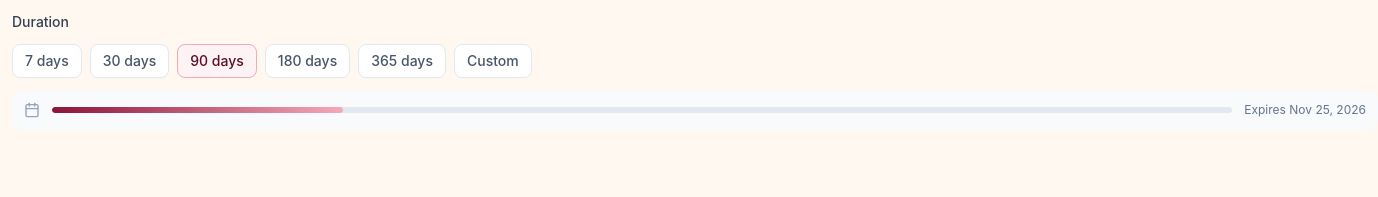
ConsentExpiryPicker › shows custom input when Custom button clicked
Click the button "Custom" at (493, 61), box 454,44 -> 532,78
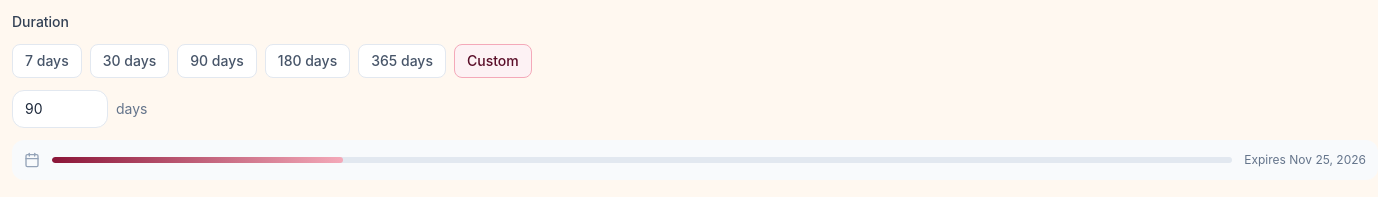
expect the number field is shown: met, box 12,90 -> 108,128
